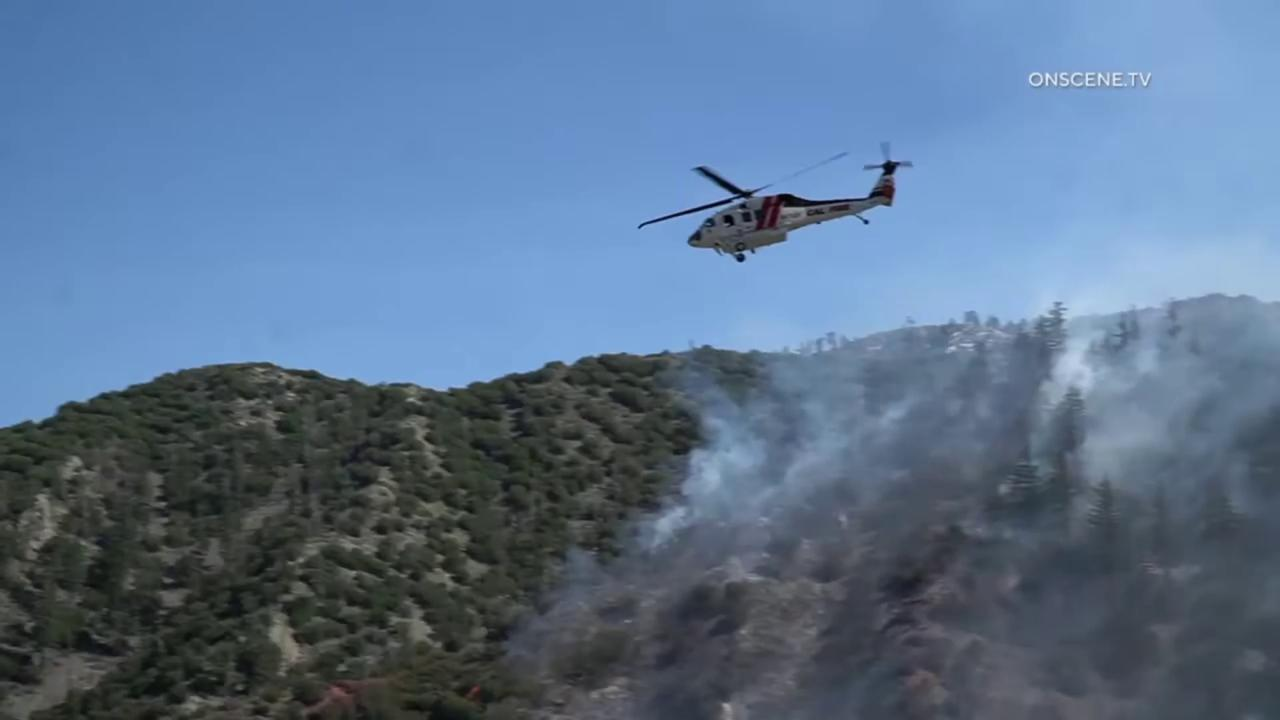smoke: (501, 244, 1280, 720)
